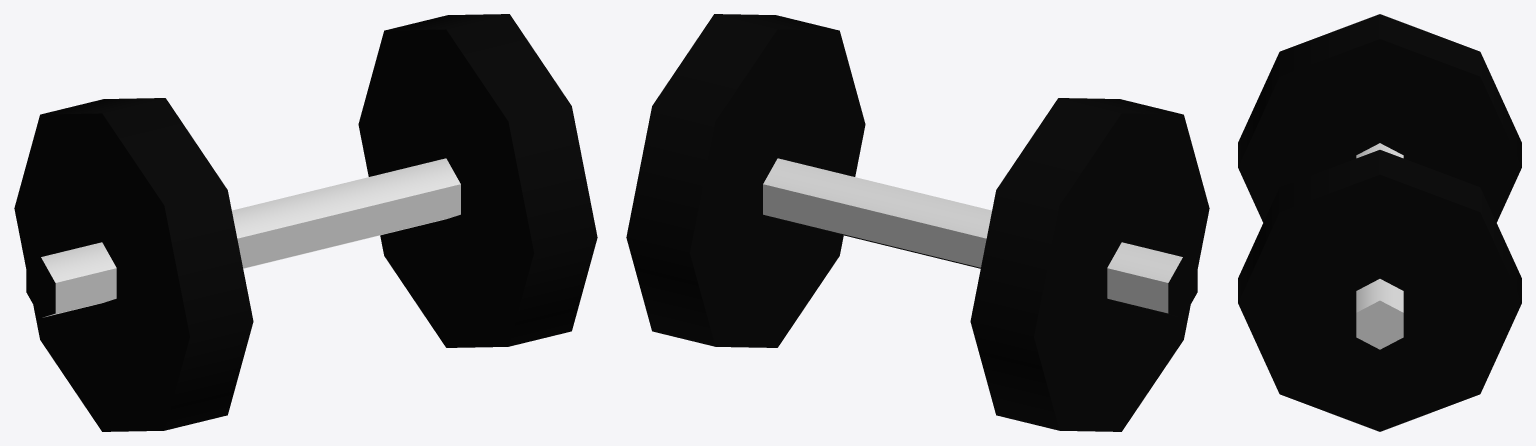
Rendered from Furniture_Dumbbell_Light.fbx.
3 views of the same model, side by side, from view 1: azimuth 30°, elevation 25°; view 2: azimuth 150°, elevation 25°; view 3: azimuth 270°, elevation 25° (orthographic). The views are drawn at different scales.
Visible parts, largest first — view 1: dumbbell_001; view 2: dumbbell_001; view 3: dumbbell_001.
Part boxes in pixels (<box>): dumbbell_001: <box>14,14,597,431</box>; dumbbell_001: <box>626,14,1209,431</box>; dumbbell_001: <box>1238,14,1521,431</box>.
Size of the model in its own units: 44.91 by 26.08 by 26.08.
